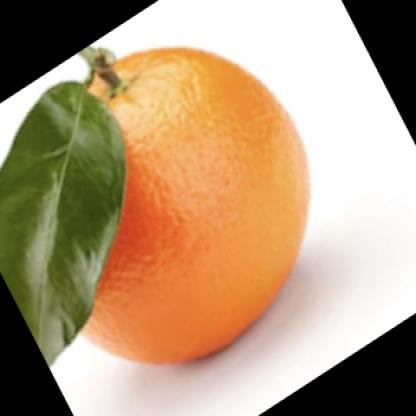fresh: (34, 46, 309, 361)
